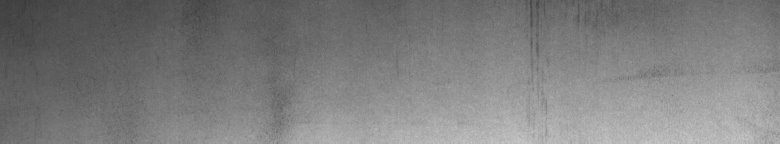ka: (524, 4, 579, 56)
